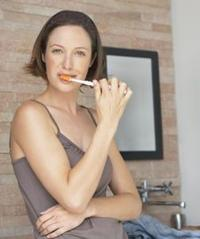person: (10, 10, 143, 239)
